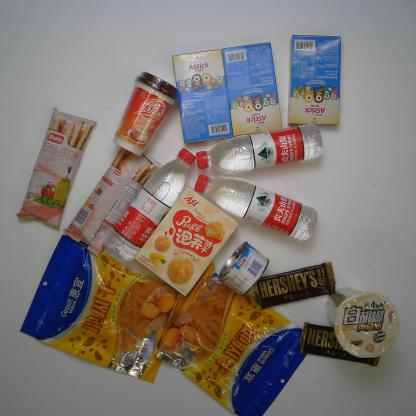Canned Food: (217, 240, 270, 296)
Chocolate: (251, 262, 338, 310), (298, 320, 381, 368)
Dessert: (133, 185, 239, 297), (62, 145, 162, 257), (16, 106, 98, 230), (220, 40, 283, 136), (171, 49, 234, 144), (286, 32, 343, 130)
Dried Fruit: (16, 234, 180, 385), (152, 260, 308, 416)
Drink: (103, 147, 197, 262), (193, 174, 318, 242), (195, 122, 325, 173)
Instant Drink: (112, 71, 180, 158)
Instant Noodles: (322, 284, 402, 360)
